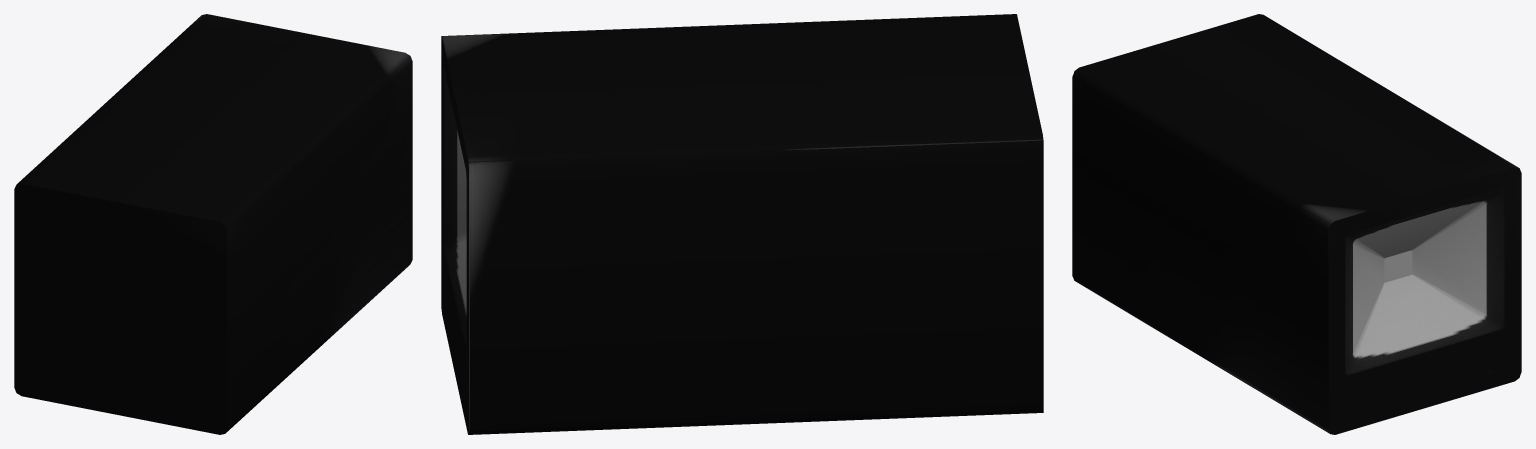
3 renders of one model, left to right at view 1: azimuth 30°, elevation 25°; view 2: azimuth 150°, elevation 25°; view 3: azimuth 270°, elevation 25°, orthographic. The views are drawn at different scales.
Parts seen in each view (by area): view 1: tv 7; view 2: tv 7; view 3: tv 7.
Part boxes in pixels (x1=…): tv 7: x1=14, y1=14, x2=412, y2=434; tv 7: x1=441, y1=14, x2=1043, y2=434; tv 7: x1=1072, y1=14, x2=1521, y2=434.
Size of the model in its own units: 235 by 211 by 111.
1 material, 1 textured.
